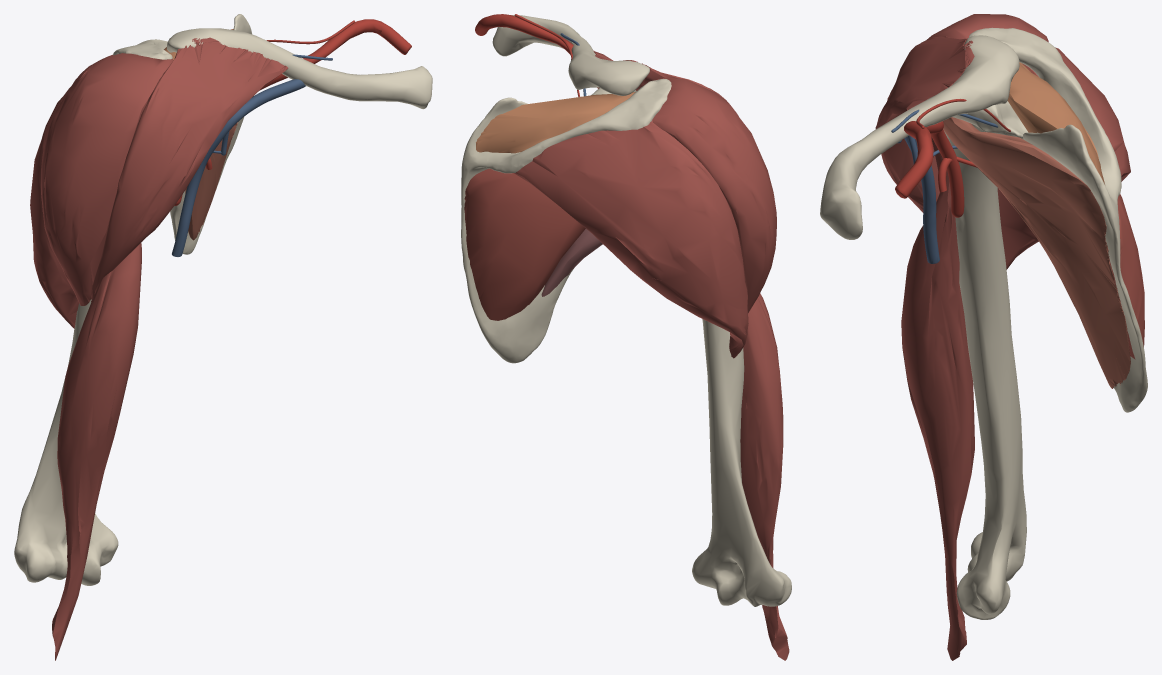
Rendered from meshopt.glb.
The picture shows the model from 3 angles, left to right: view 1: azimuth 30°, elevation 25°; view 2: azimuth 150°, elevation 25°; view 3: azimuth 270°, elevation 25°; orthographic projection. The views are drawn at different scales.
Parts seen in each view (by area): view 1: FJ1468, FJ1467, FJ1478, FJ3368, FJ3362, FJ1513, FJ2269, FJ3384, FJ1504, FJ3579; view 2: FJ1513, FJ3368, FJ1500, FJ1467, FJ3384, FJ1478, FJ1506, FJ3362, FJ1508, FJ3579, FJ1468; view 3: FJ3368, FJ1478, FJ1504, FJ3384, FJ3362, FJ1468, FJ1506, FJ1513, FJ1500, FJ1467, FJ3579, FJ2268 (+1 smaller).
Boxes of the visible parts, bbox=[...] form: FJ1468: bbox=[91, 37, 288, 301]; FJ1467: bbox=[41, 53, 173, 305]; FJ1478: bbox=[52, 243, 141, 660]; FJ3368: bbox=[14, 299, 118, 585]; FJ3362: bbox=[166, 28, 432, 109]; FJ1513: bbox=[30, 54, 112, 328]; FJ2269: bbox=[172, 79, 305, 256]; FJ3384: bbox=[113, 14, 251, 254]; FJ1504: bbox=[185, 121, 238, 240]; FJ3579: bbox=[303, 19, 411, 63]; FJ1513: bbox=[514, 120, 748, 358]; FJ3368: bbox=[692, 319, 791, 606]; FJ1500: bbox=[464, 168, 585, 320]; FJ1467: bbox=[652, 77, 776, 312]; FJ3384: bbox=[461, 78, 671, 363]; FJ1478: bbox=[740, 293, 789, 660]; FJ1506: bbox=[476, 92, 635, 153]; FJ3362: bbox=[492, 15, 649, 95]; FJ1508: bbox=[541, 229, 602, 296]; FJ3579: bbox=[475, 14, 573, 54]; FJ1468: bbox=[593, 50, 738, 116]; FJ3368: bbox=[944, 131, 1026, 619]; FJ1478: bbox=[901, 158, 974, 660]; FJ1504: bbox=[943, 117, 1130, 388]; FJ3384: bbox=[952, 27, 1147, 412]; FJ3362: bbox=[820, 35, 1019, 239]; FJ1468: bbox=[875, 36, 974, 212]; FJ1506: bbox=[1007, 62, 1104, 184]; FJ1513: bbox=[997, 47, 1130, 269]; FJ1500: bbox=[1022, 63, 1144, 359]; FJ1467: bbox=[927, 14, 1048, 170]; FJ3579: bbox=[895, 121, 933, 198]; FJ2268: bbox=[926, 121, 964, 217].
Size of the model in its own units: 2.31 by 3.61 by 1.52.
